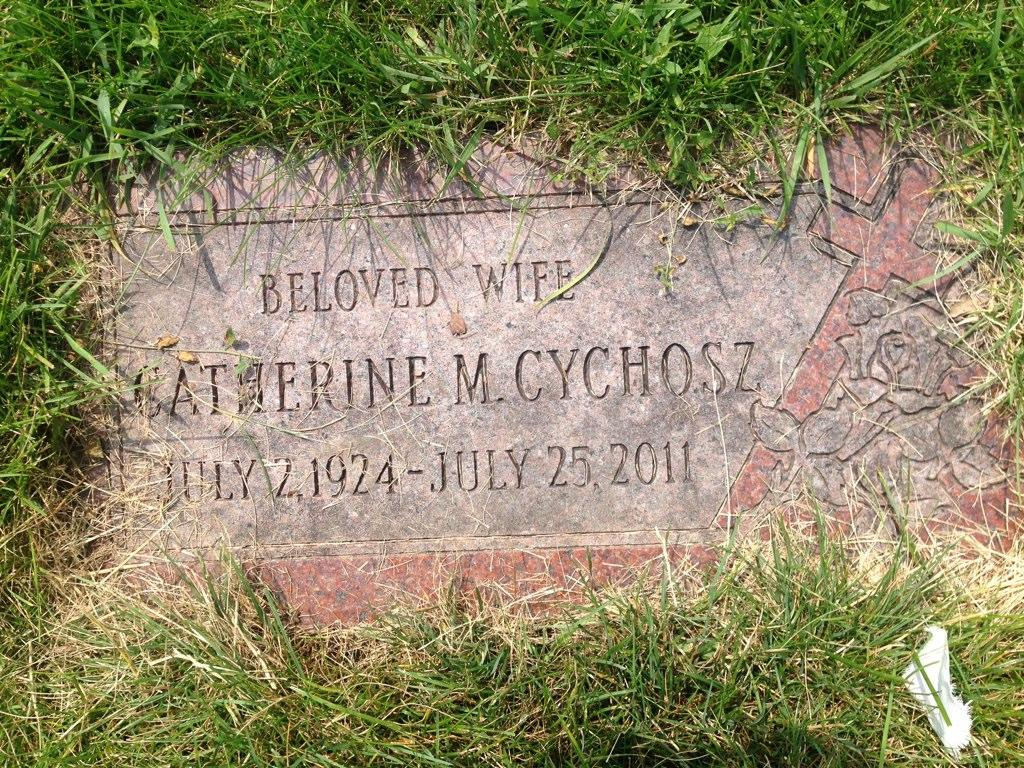flat: (17, 91, 1024, 672)
